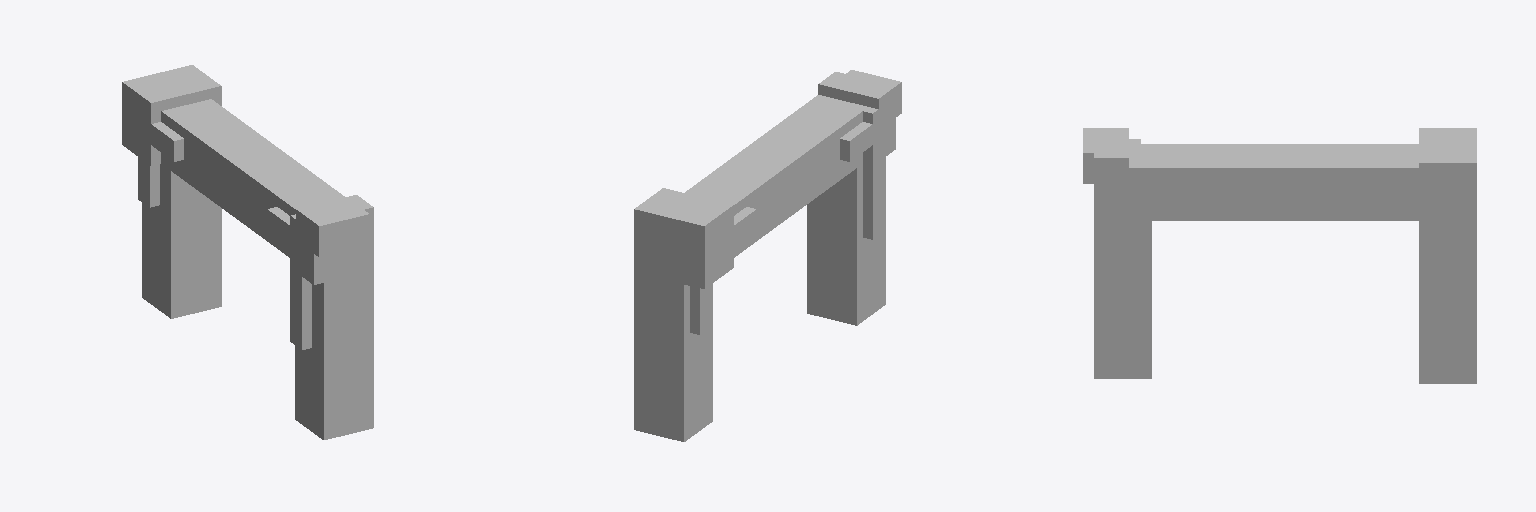
The model's file is _Lvl2 Enter.obj.
The picture shows the model from 3 angles: view 1: azimuth 30°, elevation 25°; view 2: azimuth 150°, elevation 25°; view 3: azimuth 270°, elevation 25°; orthographic projection.
Parts seen in each view (by area): view 1: _Lvl2 Enter; view 2: _Lvl2 Enter; view 3: _Lvl2 Enter.
Boxes of the visible parts, box(x1,y1,x2,y2) form: _Lvl2 Enter: box(122, 65, 373, 439); _Lvl2 Enter: box(634, 70, 901, 441); _Lvl2 Enter: box(1083, 128, 1476, 383).
Bounding box in the file's own units: 7 × 21 × 34.